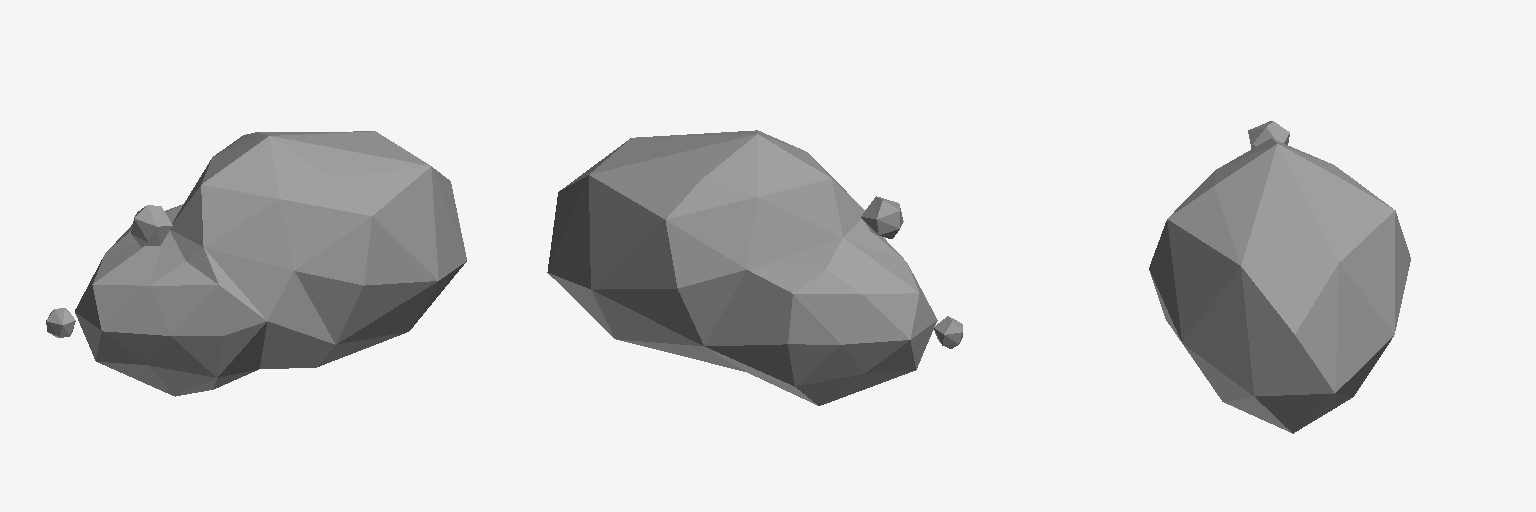
File: Cloud1.obj
3 renders of one model, left to right at view 1: azimuth 30°, elevation 25°; view 2: azimuth 150°, elevation 25°; view 3: azimuth 270°, elevation 25°, orthographic.
Visible parts, largest first — view 1: Icosphere.000_Icosphere.003; view 2: Icosphere.000_Icosphere.003; view 3: Icosphere.000_Icosphere.003.
Part boxes in pixels (bbox=[...]): Icosphere.000_Icosphere.003: bbox=[46, 131, 466, 396]; Icosphere.000_Icosphere.003: bbox=[547, 130, 962, 405]; Icosphere.000_Icosphere.003: bbox=[1149, 121, 1410, 433].
Size of the model in its own units: 5.29 by 2.95 by 2.97.